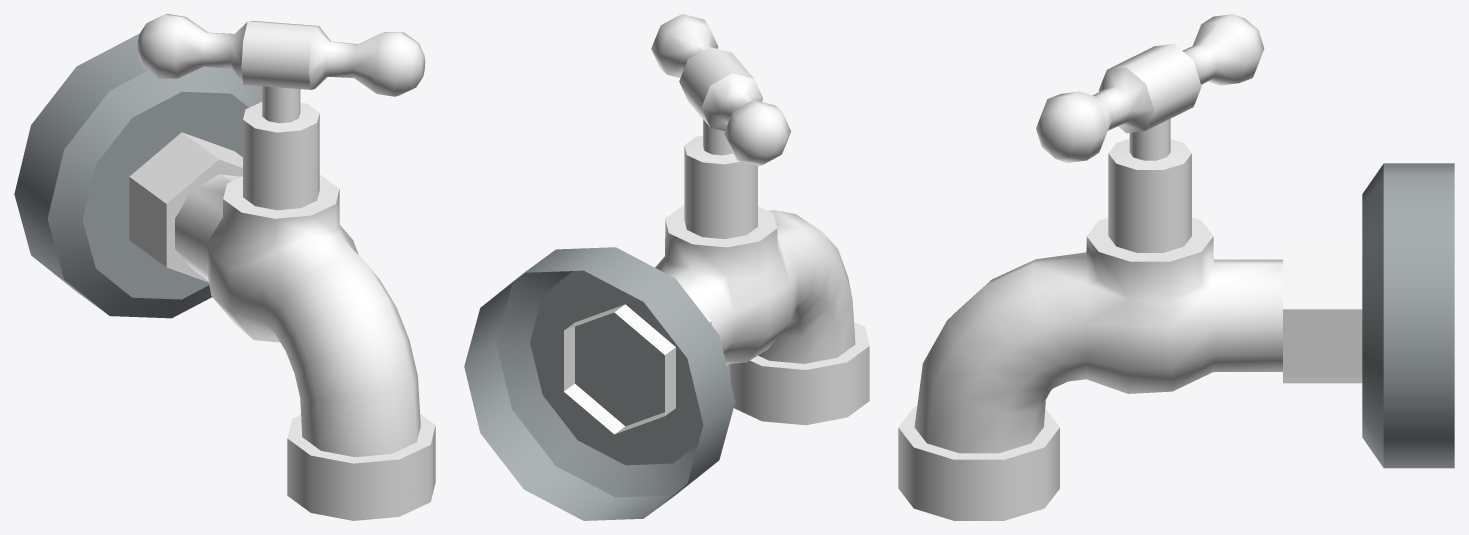
The model's file is Tap.fbx.
3 views of the same model, side by side, from view 1: azimuth 30°, elevation 25°; view 2: azimuth 150°, elevation 25°; view 3: azimuth 270°, elevation 25° (orthographic). The views are drawn at different scales.
Parts seen in each view (by area): view 1: Tap, TapHandle; view 2: Tap, TapHandle; view 3: Tap, TapHandle.
Boxes of the visible parts, x1,y1,x2,y2 form: Tap: (14, 34, 435, 520); TapHandle: (137, 14, 425, 96); Tap: (464, 119, 869, 520); TapHandle: (651, 14, 791, 165); Tap: (898, 118, 1454, 520); TapHandle: (1036, 14, 1264, 162).
Size of the model in its own units: 17.58 by 27.46 by 31.95.
